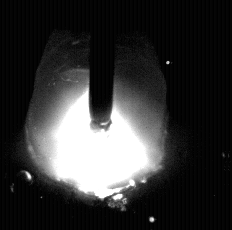arame: (89, 0, 115, 131)
poca: (25, 0, 169, 230)
